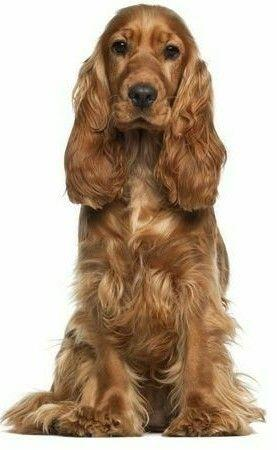adult_dog: (1, 3, 266, 439)
